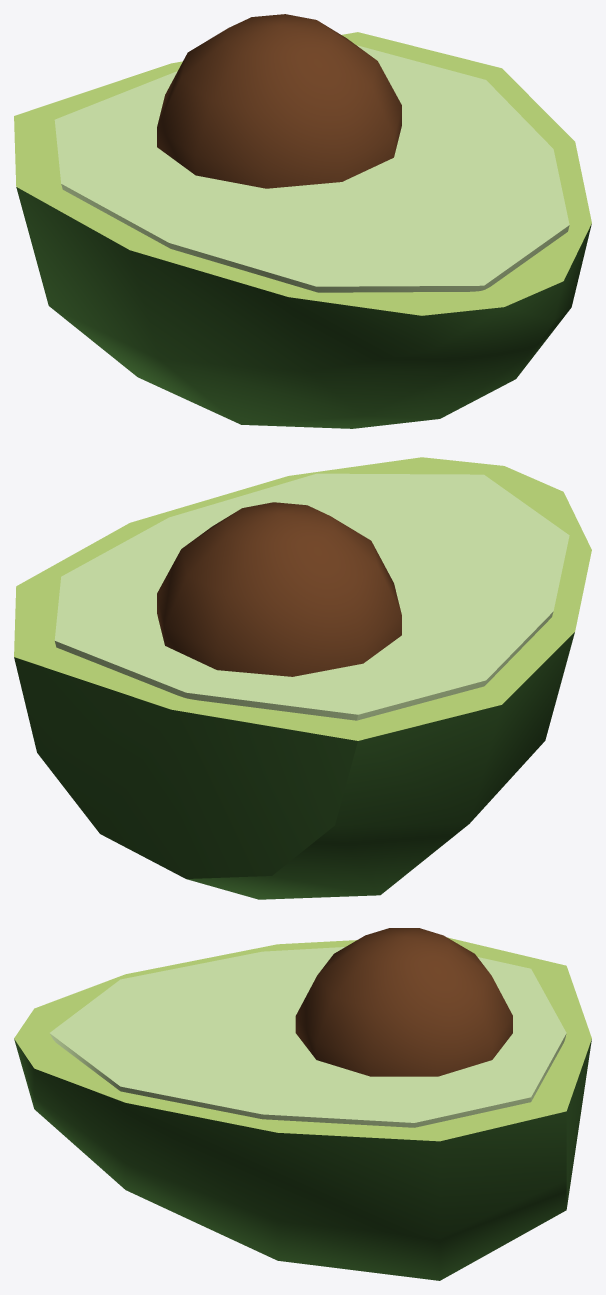
Rendered from AvocadoHalf.fbx.
The picture shows the model from 3 angles, top to bottom: view 1: azimuth 30°, elevation 25°; view 2: azimuth 150°, elevation 25°; view 3: azimuth 270°, elevation 25°; orthographic projection. The views are drawn at different scales.
Visible parts, largest first — view 1: AvocadoHalf; view 2: AvocadoHalf; view 3: AvocadoHalf.
Part boxes in pixels (box(x1,y1,x2,y2)): AvocadoHalf: box(14, 14, 591, 428); AvocadoHalf: box(14, 457, 591, 899); AvocadoHalf: box(14, 928, 591, 1280).
Size of the model in its own units: 0.96 by 0.7 by 1.14.
Materials: 1 (1 with a texture image).
